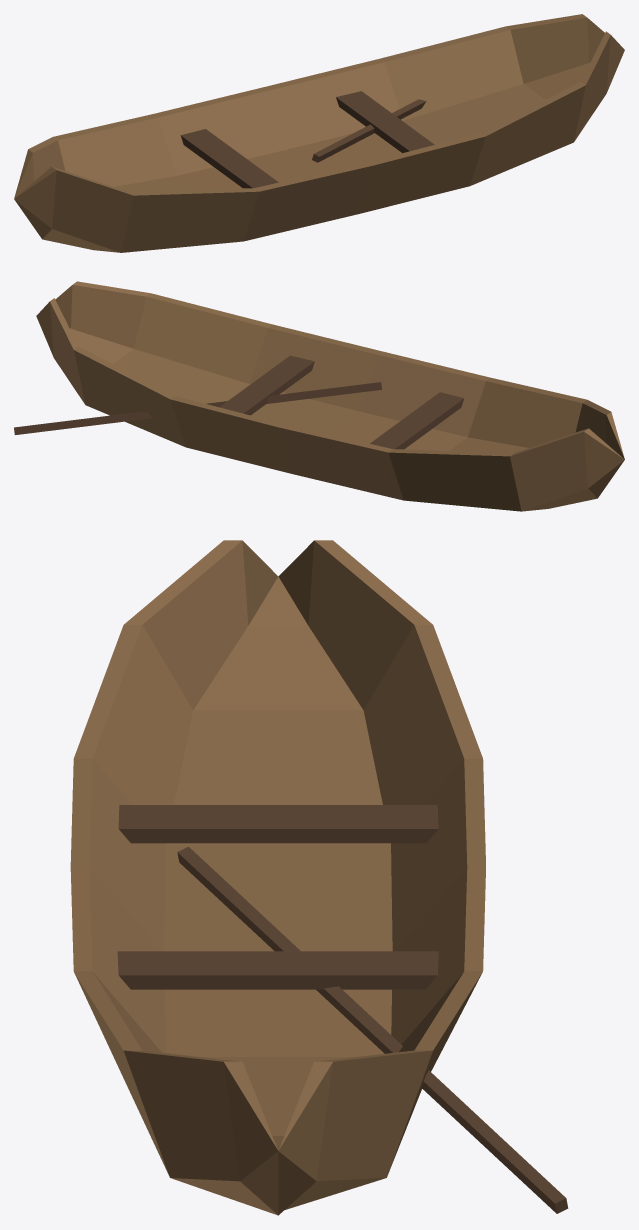
Rendered from forest_boat.glb.
3 renders of one model, top to bottom at view 1: azimuth 30°, elevation 25°; view 2: azimuth 150°, elevation 25°; view 3: azimuth 270°, elevation 25°, orthographic. The views are drawn at different scales.
Parts seen in each view (by area): view 1: forest_boat; view 2: forest_boat; view 3: forest_boat.
Boxes of the visible parts, left/top/right/bottom form: forest_boat: left=14, top=14, right=624, bottom=252; forest_boat: left=14, top=281, right=624, bottom=511; forest_boat: left=70, top=540, right=568, bottom=1215.
Bounding box in the file's own units: 4.32 × 0.7606 × 1.58.
